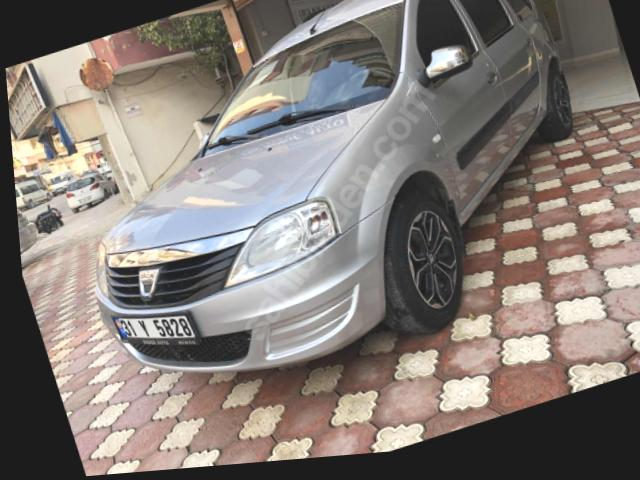plaka: (113, 314, 195, 339)
